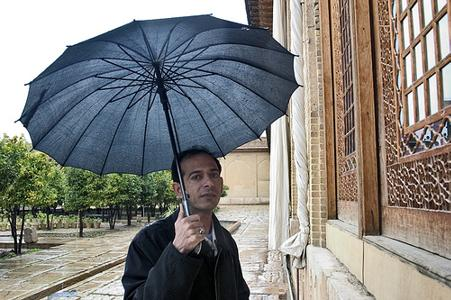person: (122, 147, 251, 300)
